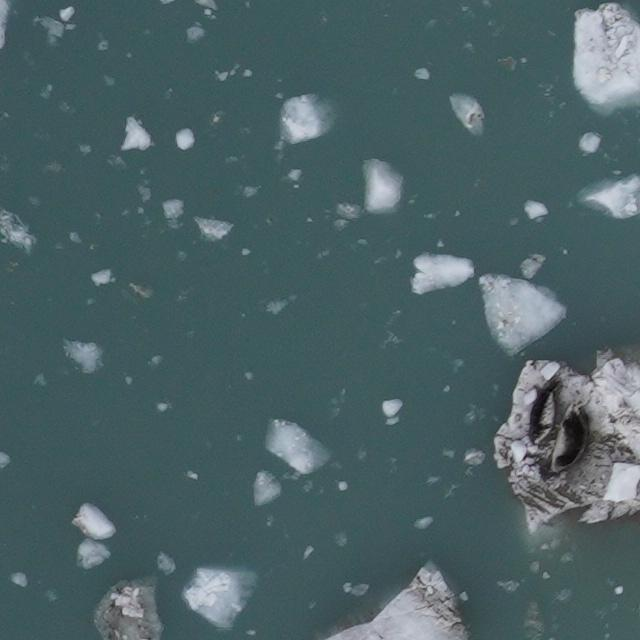seal: (537, 400, 590, 485)
